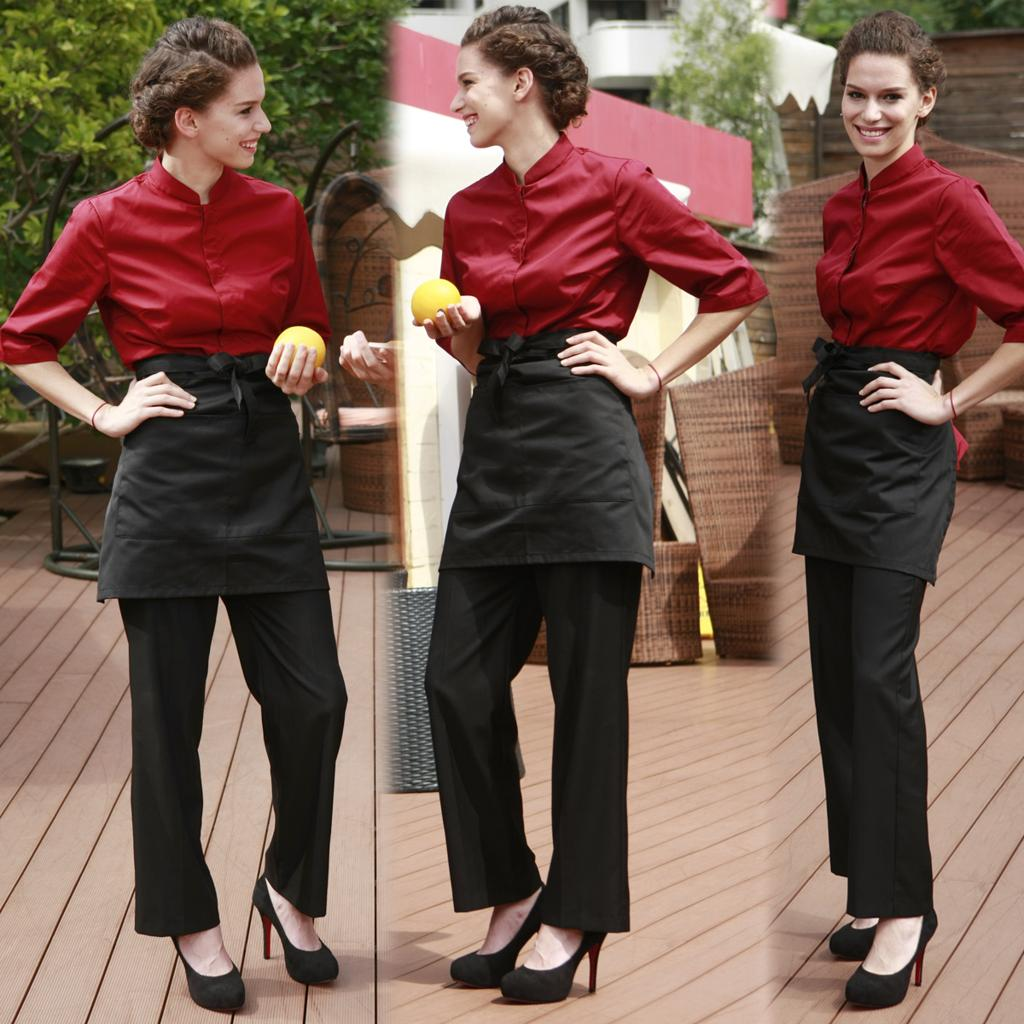face: (838, 50, 920, 154), (200, 50, 266, 172), (446, 40, 516, 150)
